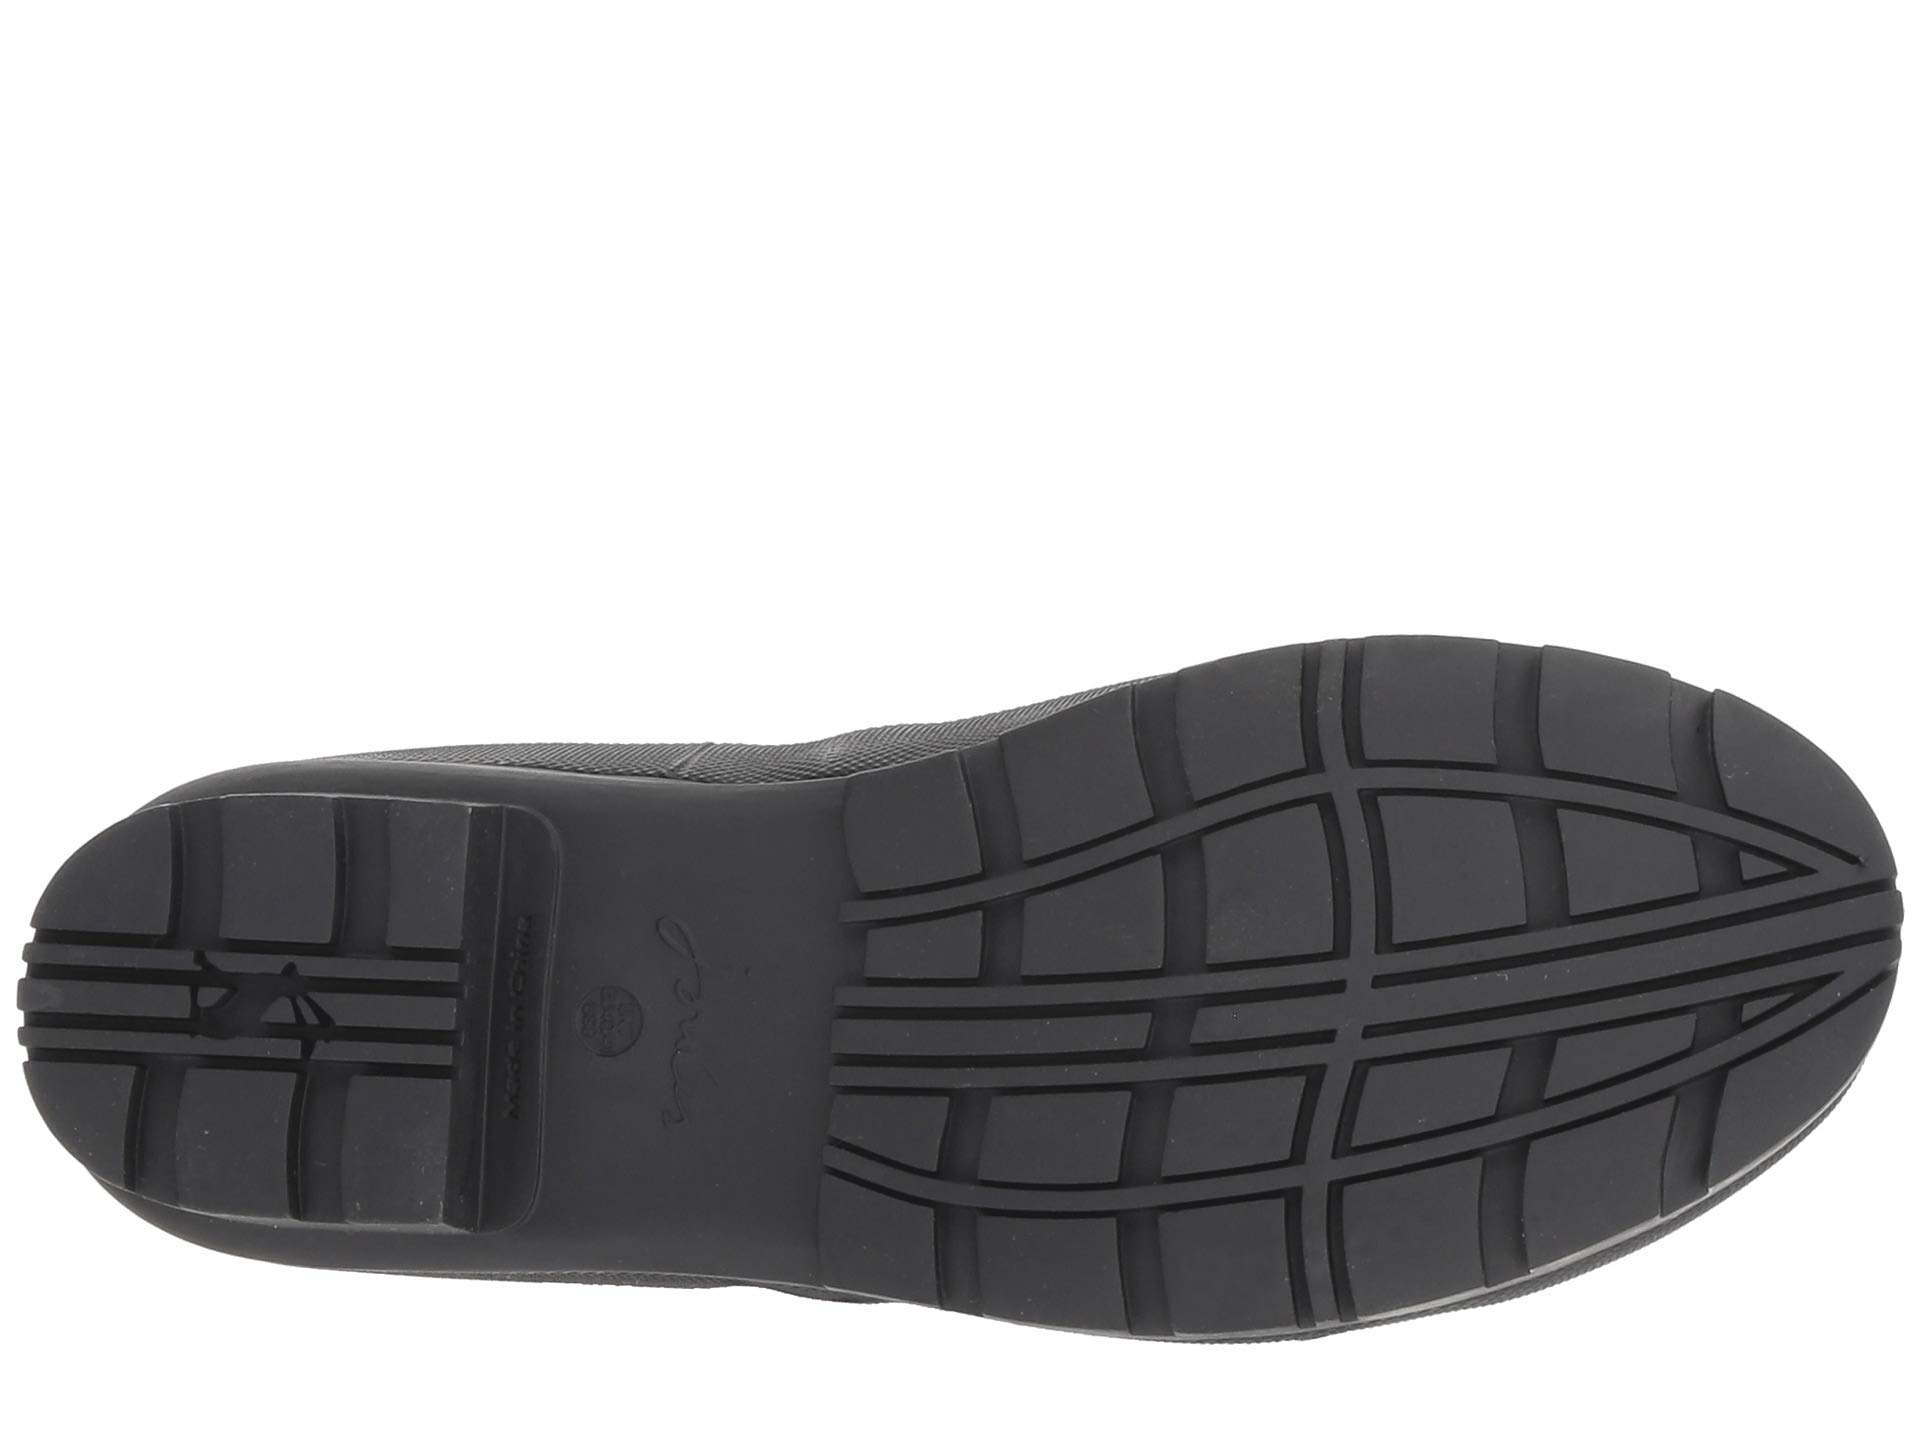line: (877, 808, 1353, 1224), (1426, 705, 1823, 1104)
quad: (877, 808, 1353, 1224), (1426, 705, 1823, 1104)
triangle: (1426, 705, 1823, 1104)
